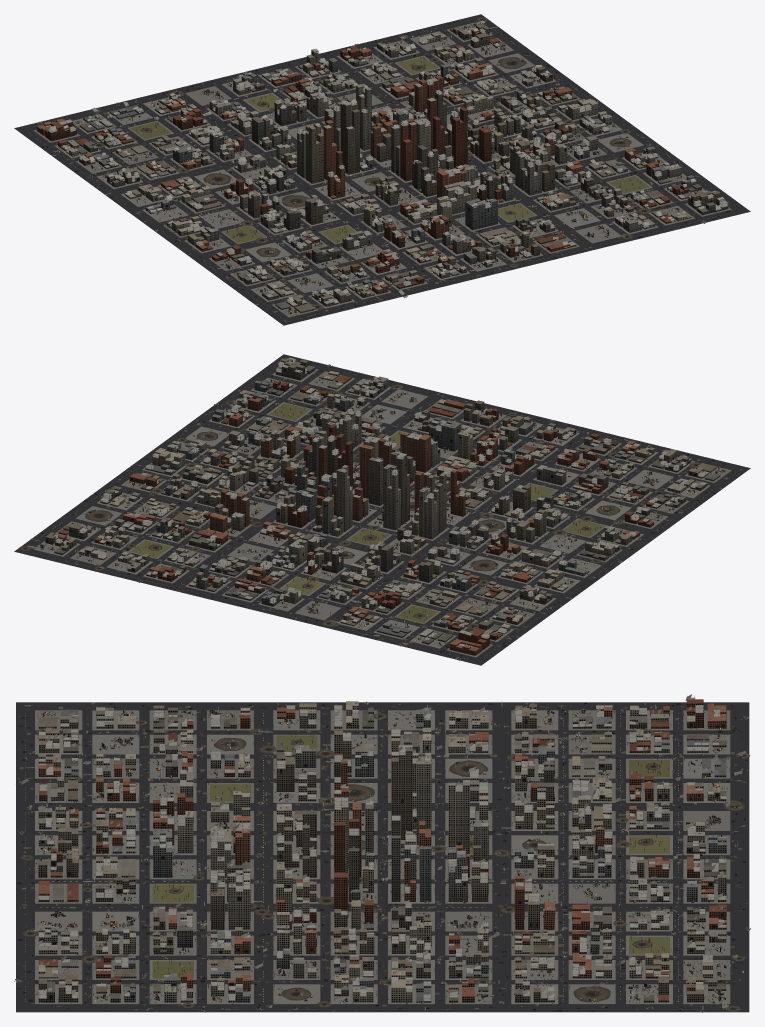
Rendered from destroyed_city.glb.
3 views of the same model, one above another, from view 1: azimuth 30°, elevation 25°; view 2: azimuth 150°, elevation 25°; view 3: azimuth 270°, elevation 25° (orthographic). The views are drawn at different scales.
Parts seen in each view (by area): view 1: Asphalt, solid_0_0, solid_-1_-1, plain_-2_1, plain_1_1, solid_0_-1, solid_0_1, solid_1_0, plain_-2_0, solid_-1_1, solid_1_-1, solid_-2_-1 (+55 smaller); view 2: Asphalt, solid_0_-1, solid_-1_-1, solid_0_0, plain_-2_1, solid_1_0, solid_1_-2, plain_1_-2, solid_1_-1, solid_-1_-2, solid_-1_1, solid_-2_-1 (+54 smaller); view 3: Asphalt, solid_0_0, plain_-2_1, solid_0_-1, solid_1_0, plain_1_-2, plain_1_1, plain_-2_-2, plain_0_-2, plain_0_1, plain_-1_-2, solid_1_-2 (+61 smaller).
Boxes of the visible parts, x1=… form: Asphalt: x1=14, y1=14, x2=750, y2=325; solid_0_0: x1=391, y1=107, x2=535, y2=200; solid_-1_-1: x1=238, y1=97, x2=373, y2=190; plain_-2_1: x1=245, y1=224, x2=406, y2=294; plain_1_1: x1=513, y1=159, x2=675, y2=227; solid_0_-1: x1=332, y1=79, x2=472, y2=164; solid_0_1: x1=443, y1=160, x2=580, y2=245; solid_1_0: x1=491, y1=120, x2=617, y2=179; plain_-2_0: x1=199, y1=183, x2=342, y2=250; solid_-1_1: x1=371, y1=196, x2=482, y2=268; solid_1_-1: x1=427, y1=75, x2=558, y2=141; solid_-2_-1: x1=146, y1=143, x2=283, y2=211; Asphalt: x1=14, y1=354, x2=750, y2=665; solid_0_-1: x1=237, y1=440, x2=370, y2=547; solid_-1_-1: x1=369, y1=452, x2=467, y2=566; solid_0_0: x1=294, y1=412, x2=430, y2=505; plain_-2_1: x1=512, y1=449, x2=677, y2=520; solid_1_0: x1=203, y1=410, x2=337, y2=484; solid_1_-2: x1=94, y1=503, x2=231, y2=563; plain_1_-2: x1=90, y1=500, x2=251, y2=567; solid_1_-1: x1=146, y1=464, x2=282, y2=519; solid_-1_-2: x1=304, y1=543, x2=418, y2=610; solid_-1_1: x1=444, y1=425, x2=579, y2=484; solid_-2_-1: x1=428, y1=523, x2=561, y2=593; Asphalt: x1=16, y1=702, x2=749, y2=1012; solid_0_0: x1=227, y1=788, x2=374, y2=920; plain_-2_1: x1=86, y1=730, x2=253, y2=802; solid_0_-1: x1=391, y1=780, x2=533, y2=927; solid_1_0: x1=228, y1=883, x2=374, y2=978; plain_1_-2: x1=511, y1=900, x2=677, y2=982; plain_1_1: x1=80, y1=889, x2=253, y2=982; plain_-2_-2: x1=511, y1=730, x2=678, y2=802; plain_0_-2: x1=511, y1=833, x2=678, y2=920; plain_0_1: x1=87, y1=828, x2=253, y2=926; plain_-1_-2: x1=511, y1=780, x2=677, y2=856; solid_1_-2: x1=528, y1=901, x2=669, y2=978.
Size of what is drawn, in the model's own units: 1000 by 149 by 1003.
3 materials, 1 textured.
